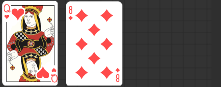10D: (67, 4, 74, 21)
